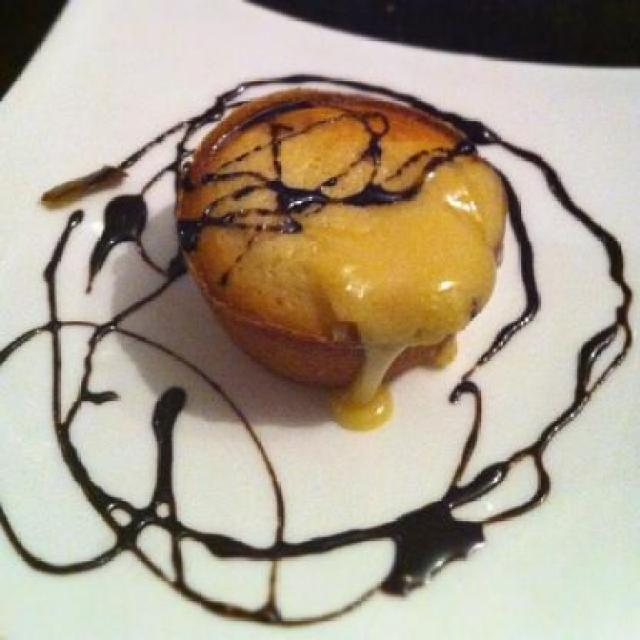Muffin: (166, 84, 514, 396)
